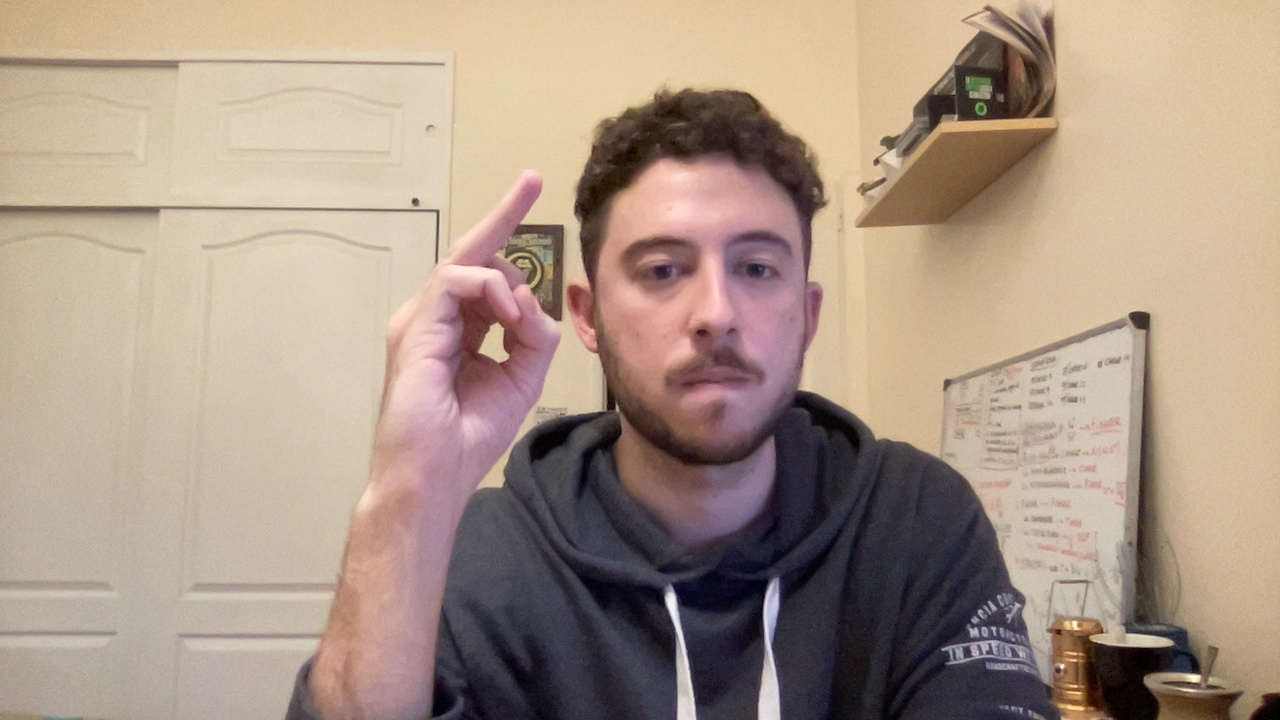anular: (333, 164, 578, 488)
